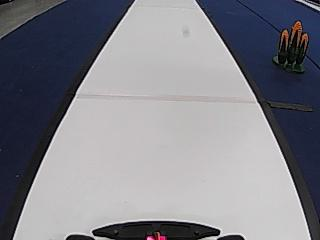corn: (270, 19, 312, 72)
